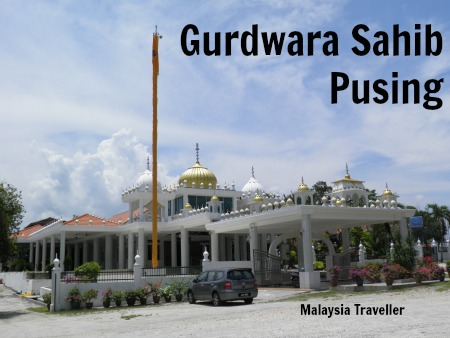Gurdwara: (40, 37, 404, 291)
